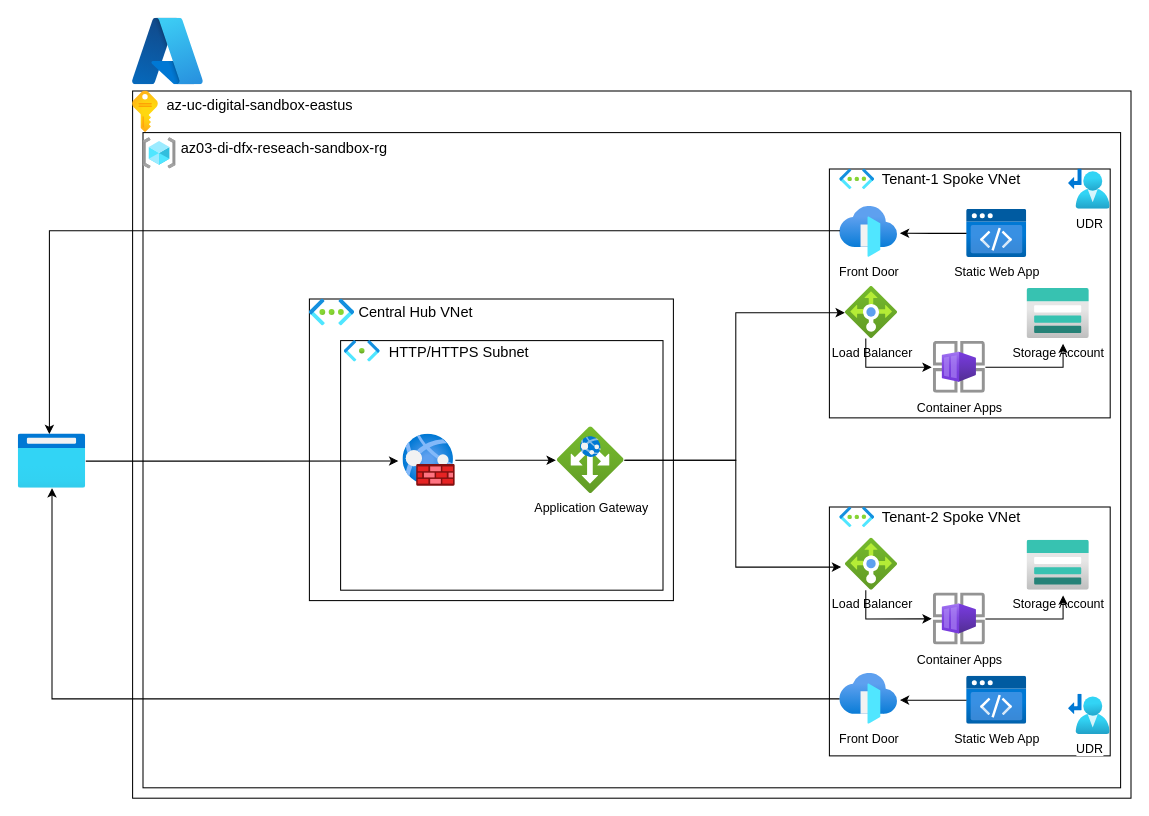
The diagram is 1149 pixels wide and 816 high, and some of its shapes have lost their labels. The box of each missing label's shape, as (x1, y1, x2, y2) in pixels:
Browser: (18, 434, 85, 488)
WAF: (402, 434, 455, 486)
